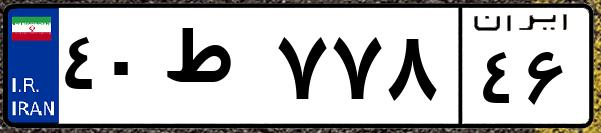0: (110, 28, 158, 98)
4: (57, 26, 110, 100), (475, 38, 525, 113)
6: (525, 38, 570, 115)
7: (270, 28, 330, 110), (330, 28, 385, 110)
8: (385, 28, 445, 110)
ط: (158, 20, 270, 120)
